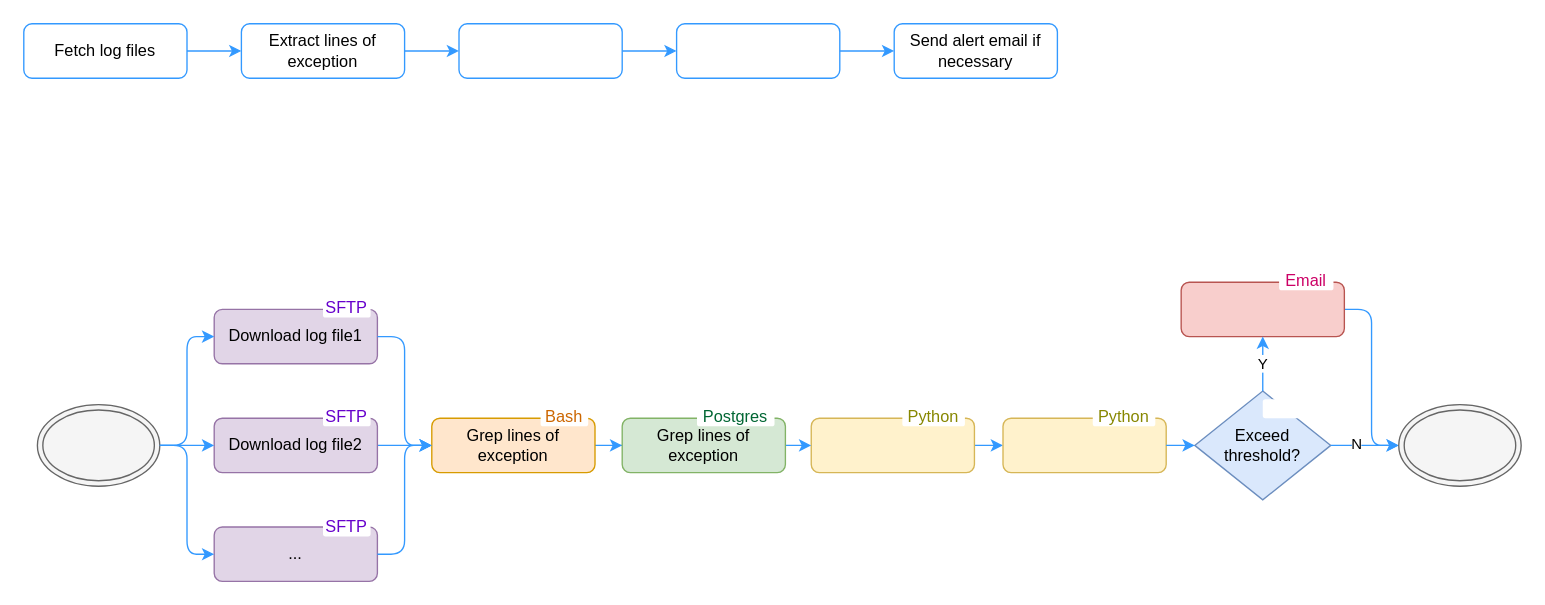
Image size: 1545x605. Some labels were removed from this diagram. Here are the shapes that lost their labels. From the top down, the centre of each, then its label:
the point at 540,50: Parse exception
the point at 757,50: Count error for certain exception
the point at 1262,309: Send alert email
the point at 1293,408: Branch
the point at 98,444: Start
the point at 892,445: Parse exception and save to DB
the point at 1084,445: Count exception from DB
the point at 1459,444: End
